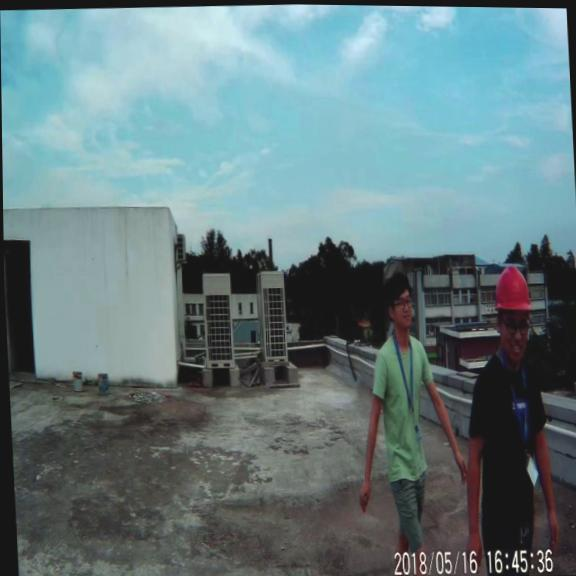no_safety_vest: (474, 349, 555, 515), (369, 352, 437, 476)
